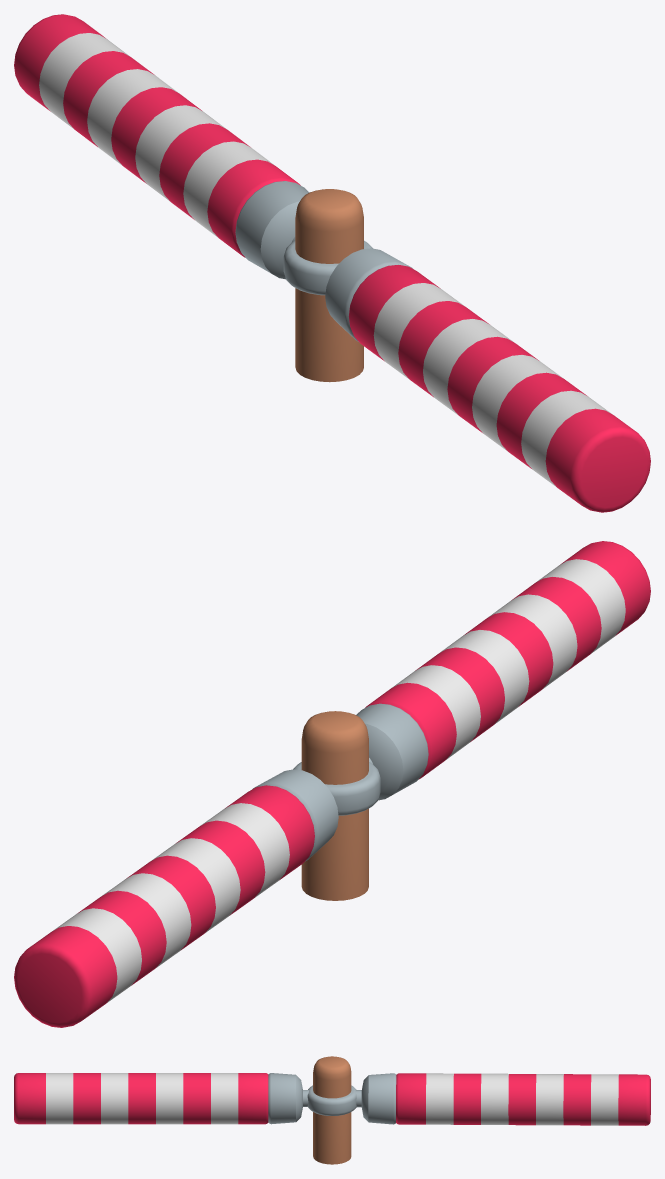
File: fullswipe.fbx
3 views of the same model, one above another, from view 1: azimuth 30°, elevation 25°; view 2: azimuth 150°, elevation 25°; view 3: azimuth 270°, elevation 25° (orthographic). The views are drawn at different scales.
Visible parts, largest first — view 1: swiperLong_teamRed, swiperLong_teamRed.001; view 2: swiperLong_teamRed, swiperLong_teamRed.001; view 3: swiperLong_teamRed, swiperLong_teamRed.001.
Boxes of the visible parts, x1,y1,x2,y2 form: swiperLong_teamRed: (283,189,650,512); swiperLong_teamRed.001: (14,14,308,279); swiperLong_teamRed: (293,541,650,900); swiperLong_teamRed.001: (14,769,338,1027); swiperLong_teamRed: (14,1056,356,1164); swiperLong_teamRed.001: (355,1073,650,1125).
Size of the model in its own units: 86.56 by 163 by 997.
